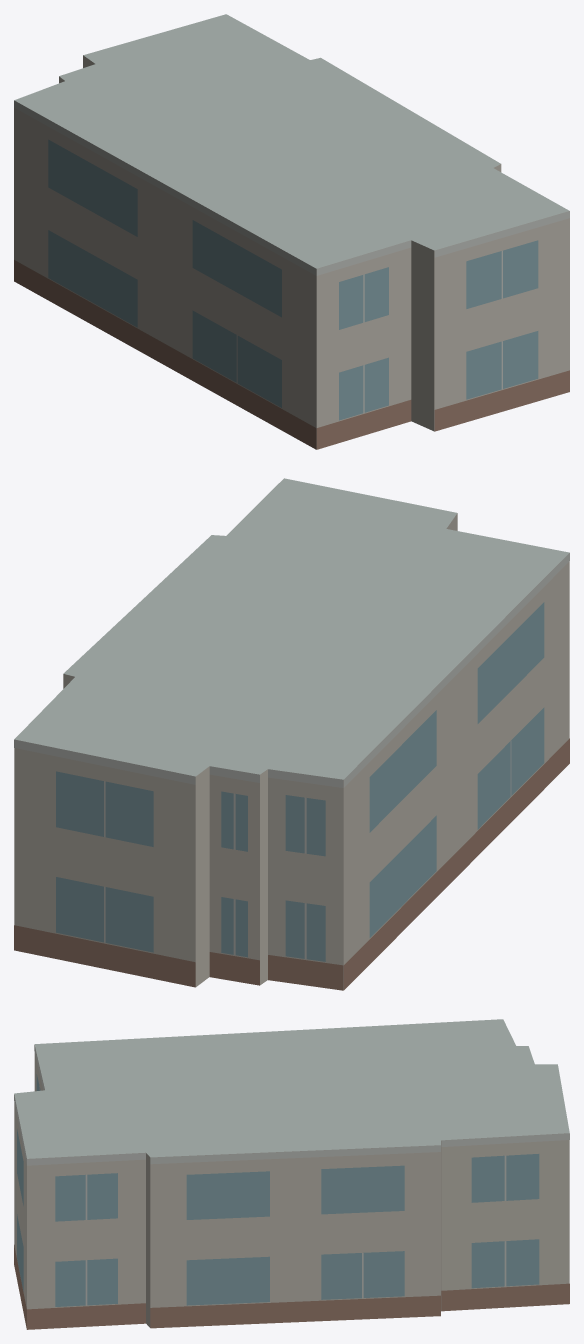
File: survey-upis-32985697.glb
3 renders of one model, top to bottom at view 1: azimuth 30°, elevation 25°; view 2: azimuth 150°, elevation 25°; view 3: azimuth 270°, elevation 25°, orthographic. The views are drawn at different scales.
Parts seen in each view (by area): view 1: survey-upis-32985697.tmp; view 2: survey-upis-32985697.tmp; view 3: survey-upis-32985697.tmp.
Part boxes in pixels (left/top/right/bottom): survey-upis-32985697.tmp: left=14, top=14, right=569, bottom=449; survey-upis-32985697.tmp: left=14, top=478, right=569, bottom=990; survey-upis-32985697.tmp: left=14, top=1019, right=569, bottom=1329.
Bounding box in the file's own units: 10.71 × 6.1 × 17.99.
